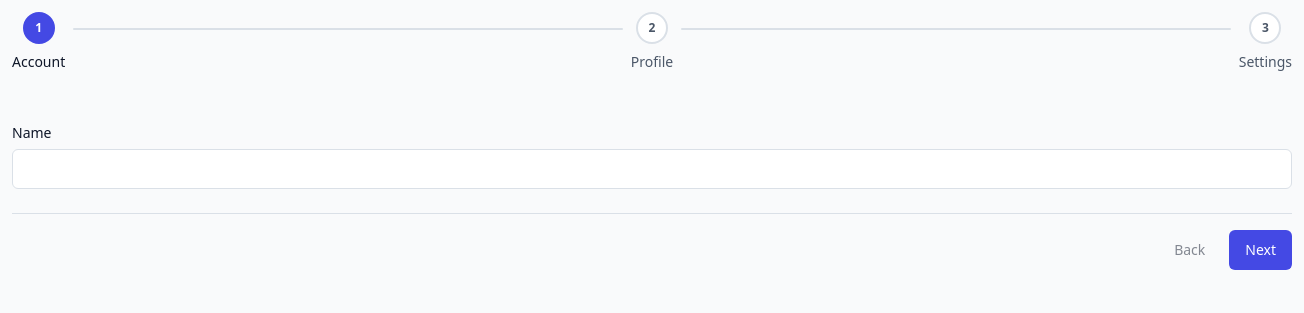
Test: FormWizard — navigation › Next on an invalid step keeps current step and surfaces errors
Click the button with test id "wizard-next": coordinates (1261, 250) [1229, 230, 1292, 270]
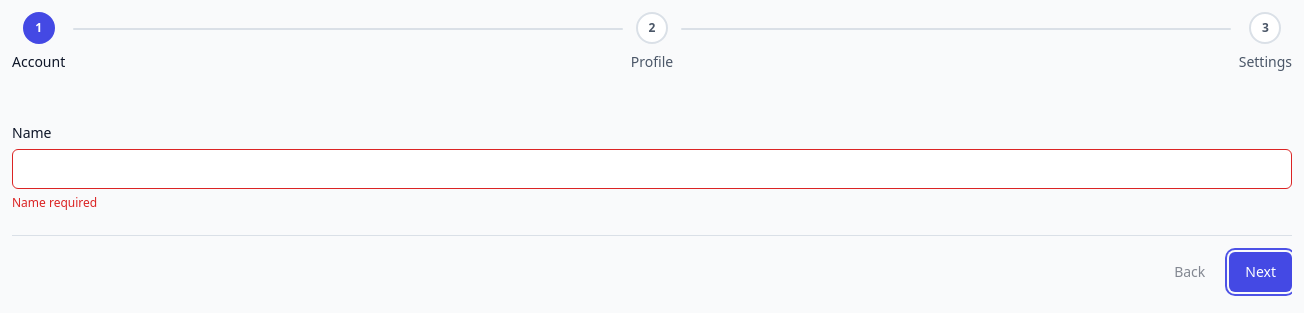
expect the field labelled "Name" is shown: met, box [12, 149, 1292, 189]
expect the text "Name required" is shown: met, box [12, 194, 97, 211]
